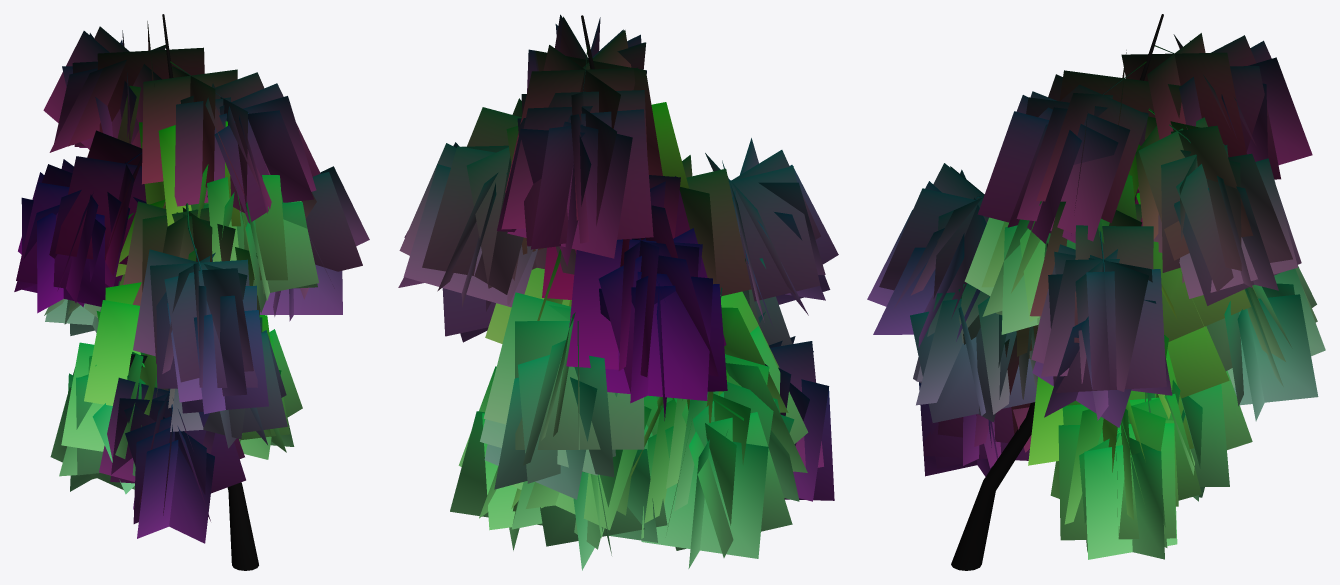
Rendered from M_P13_Tree_10.fbx.
3 renders of one model, left to right at view 1: azimuth 30°, elevation 25°; view 2: azimuth 150°, elevation 25°; view 3: azimuth 270°, elevation 25°, orthographic. The views are drawn at different scales.
Parts seen in each view (by area): view 1: Tree_10; view 2: Tree_10; view 3: Tree_10.
Boxes of the visible parts, bbox=[...] form: Tree_10: bbox=[14, 14, 369, 570]; Tree_10: bbox=[398, 14, 838, 570]; Tree_10: bbox=[867, 14, 1325, 570].
Size of the model in its own units: 388 by 567 by 426.
